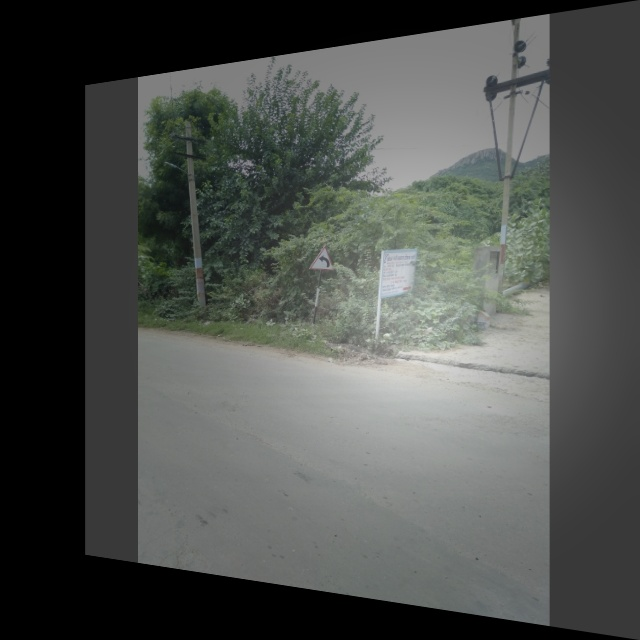Left_Hand_Curve: (309, 241, 337, 273)
